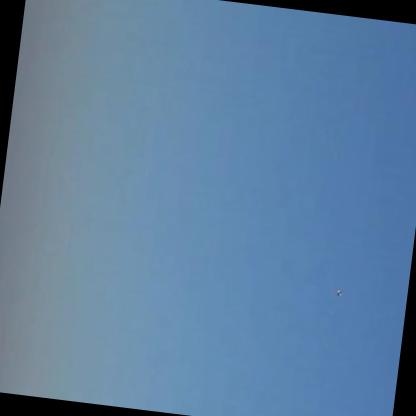plane: (327, 284, 345, 300)
